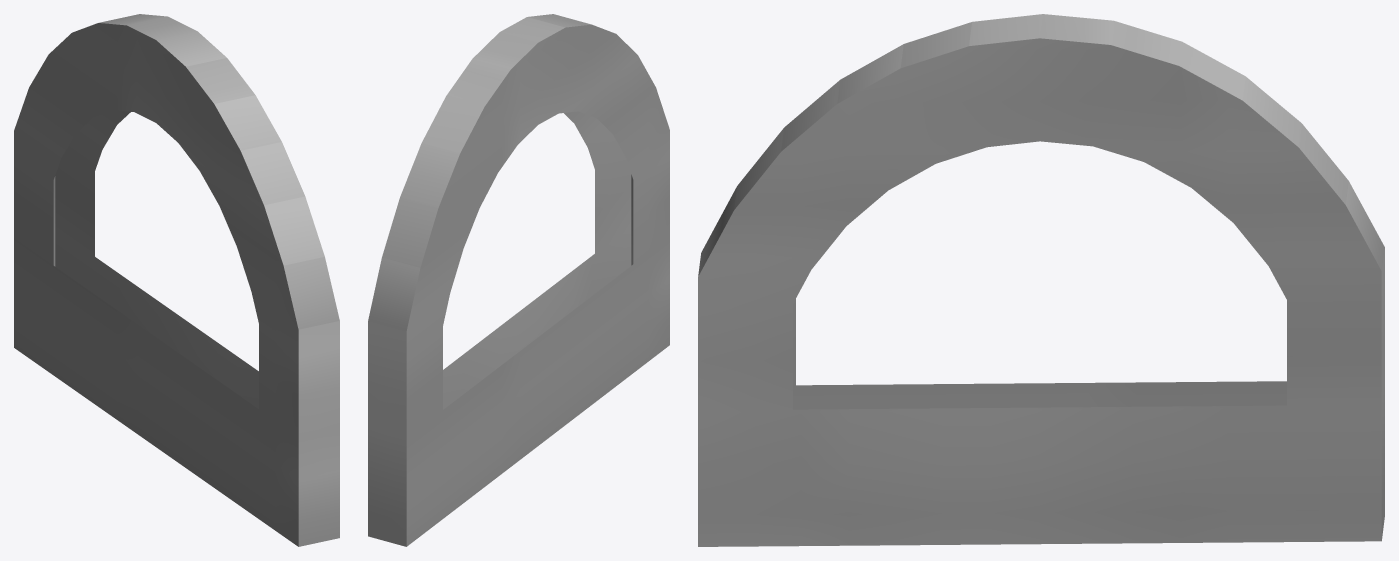
Rendered from original-9.obj.
3 views of the same model, side by side, from view 1: azimuth 30°, elevation 25°; view 2: azimuth 150°, elevation 25°; view 3: azimuth 270°, elevation 25° (orthographic). The views are drawn at different scales.
Parts seen in each view (by area): view 1: #ID74; view 2: #ID74; view 3: #ID74.
Boxes of the visible parts, <box> form: #ID74: <box>14,14,339,546</box>; #ID74: <box>368,14,669,546</box>; #ID74: <box>698,14,1384,546</box>.
Bounding box in the file's own units: 0.0122 × 0.0957 × 0.1178.
1 material, 1 textured.
